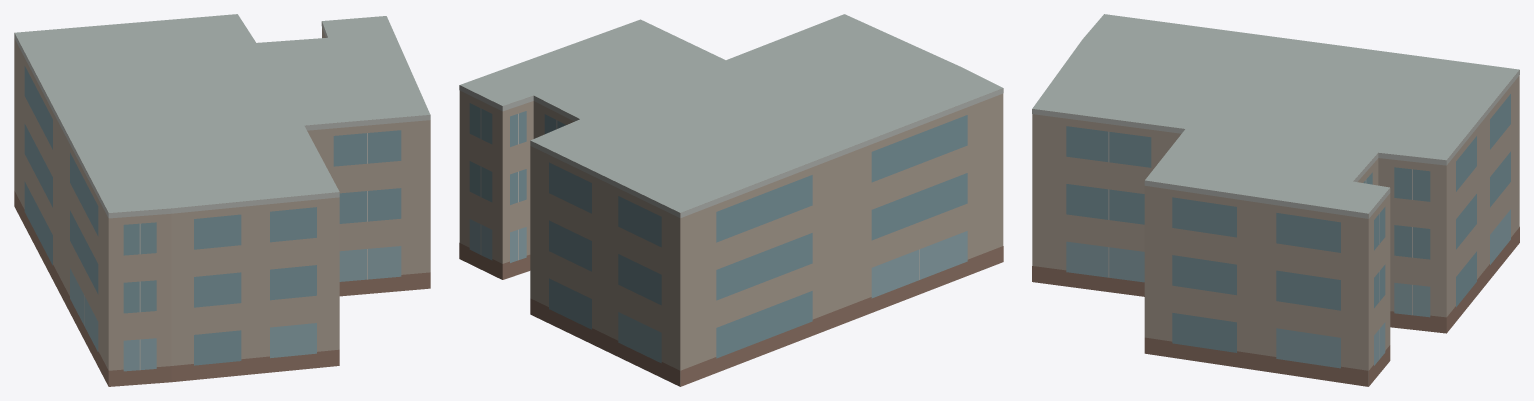
File: survey-upis-32606400.glb
3 views of the same model, side by side, from view 1: azimuth 30°, elevation 25°; view 2: azimuth 150°, elevation 25°; view 3: azimuth 270°, elevation 25° (orthographic).
Visible parts, largest first — view 1: survey-upis-32606400.tmp; view 2: survey-upis-32606400.tmp; view 3: survey-upis-32606400.tmp.
Part boxes in pixels (x1,y1,x2,y2): survey-upis-32606400.tmp: (14, 14, 430, 386); survey-upis-32606400.tmp: (459, 14, 1003, 386); survey-upis-32606400.tmp: (1032, 14, 1519, 386).
Bounding box in the file's own units: 19.67 × 7.95 × 20.3.
